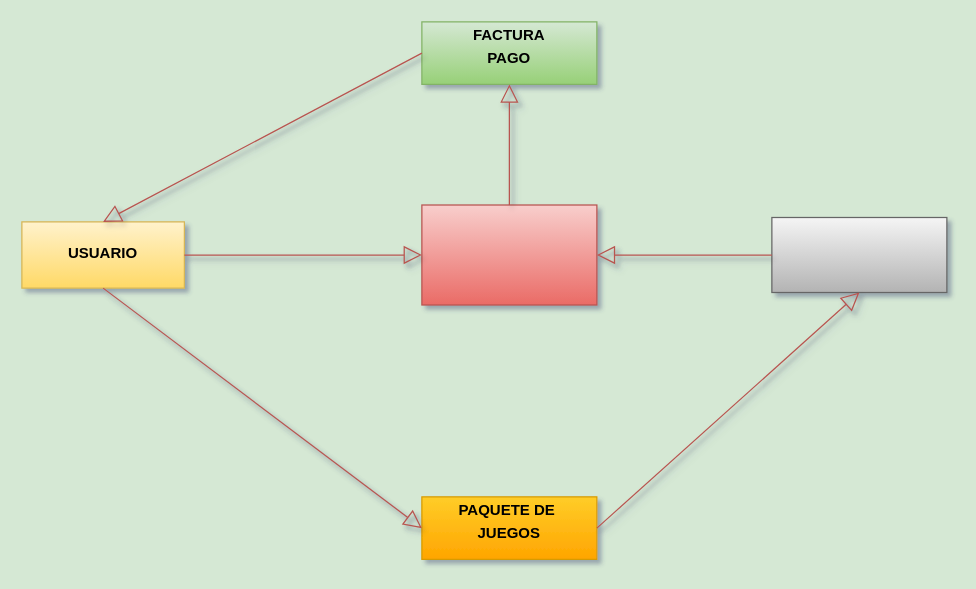
The diagram is 976 pixels wide and 589 high, and some of its shapes have lost their labels. The centre of each missing label's shape, as x and y in pixels:
METODO DE PAGO CREDITO O DEBITO: [859,254]
PAGO ELECTRONICO: [509,254]
